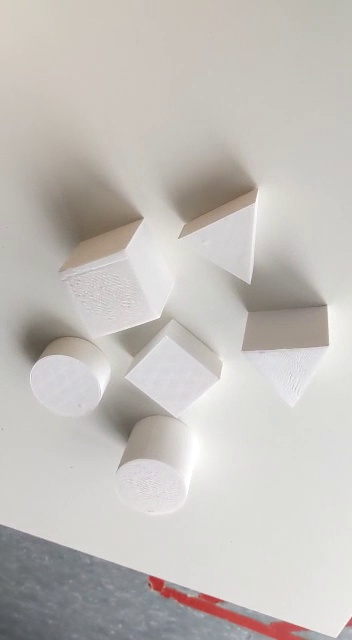Clyinder_short: (24, 332, 112, 420)
Cube: (53, 212, 182, 340)
Cube_short: (119, 312, 228, 425)
Cylinder: (117, 411, 196, 516)
Triangle: (238, 300, 336, 415)
Triangle_short: (176, 186, 260, 288)
